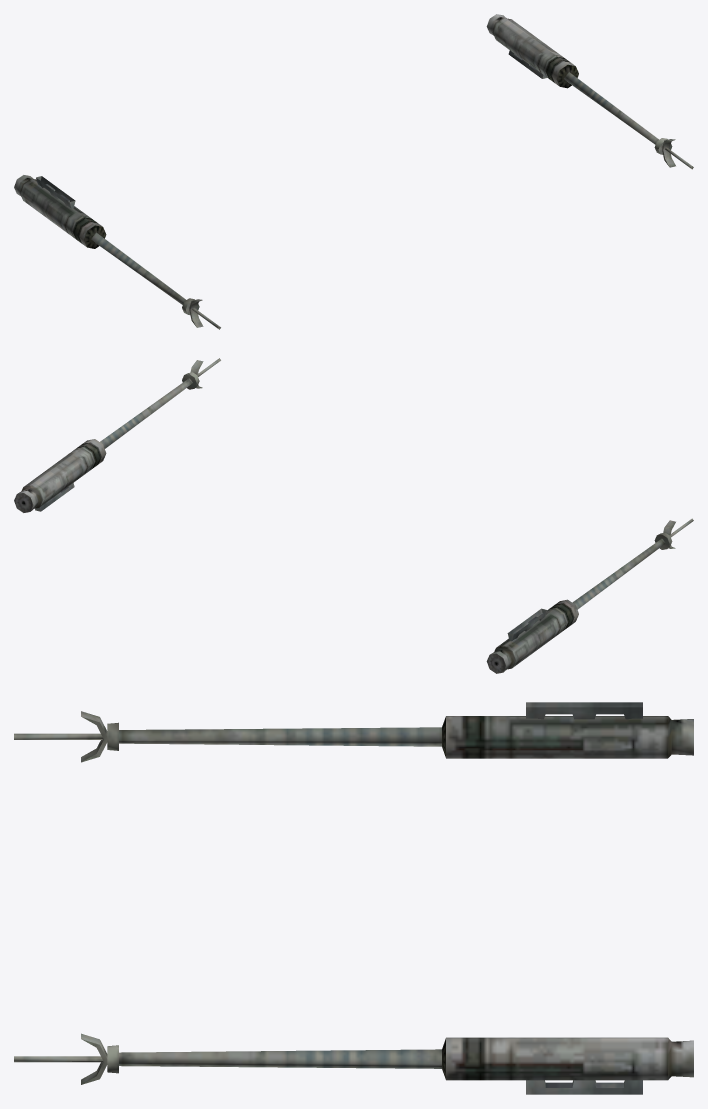
File: xwing_weapon1_neg_s01_l1.fbx
3 renders of one model, top to bottom at view 1: azimuth 30°, elevation 25°; view 2: azimuth 150°, elevation 25°; view 3: azimuth 270°, elevation 25°, orthographic. The views are drawn at different scales.
Parts seen in each view (by area): view 1: mesh_node; view 2: mesh_node; view 3: mesh_node.
Boxes of the visible parts, x1,y1,x2,y2 form: mesh_node: (14,14,693,329); mesh_node: (14,358,693,673); mesh_node: (14,702,693,1094).
Bounding box in the file's own units: 13.03 × 1.8 × 8.92.
1 material, 1 textured.
